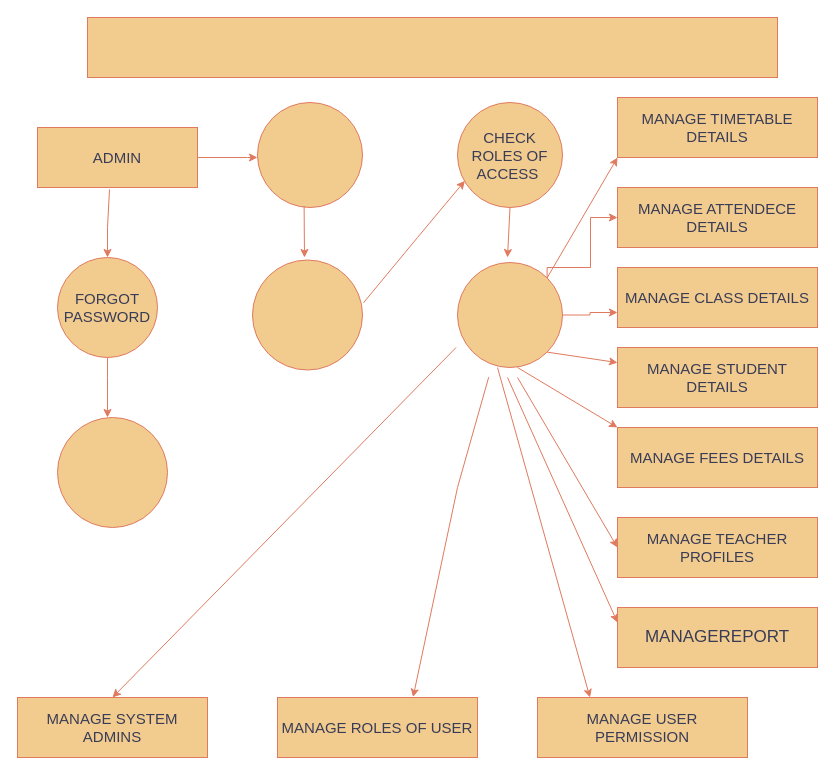
This 835x775 diagram has some shape labels left out. Here are the shapes that lost their labels. From the top down, the centre of each, then its label:
At (x=432, y=47): "STUDENT INFORMATION SYSTEM".
At (x=309, y=155): "LOGIN FOR SYSTEM".
At (x=307, y=314): "CHECK CREDENTIALS".
At (x=509, y=315): "MANAGE MODULES".
At (x=112, y=472): "SREND EMAIL TO USER".
